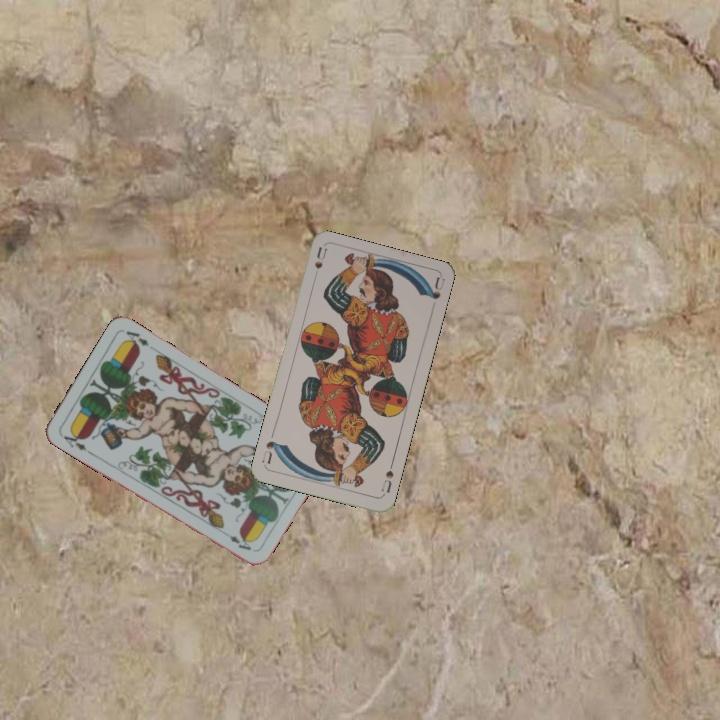EA: (60, 427, 94, 457)
SU: (377, 458, 396, 498), (310, 244, 329, 272)
